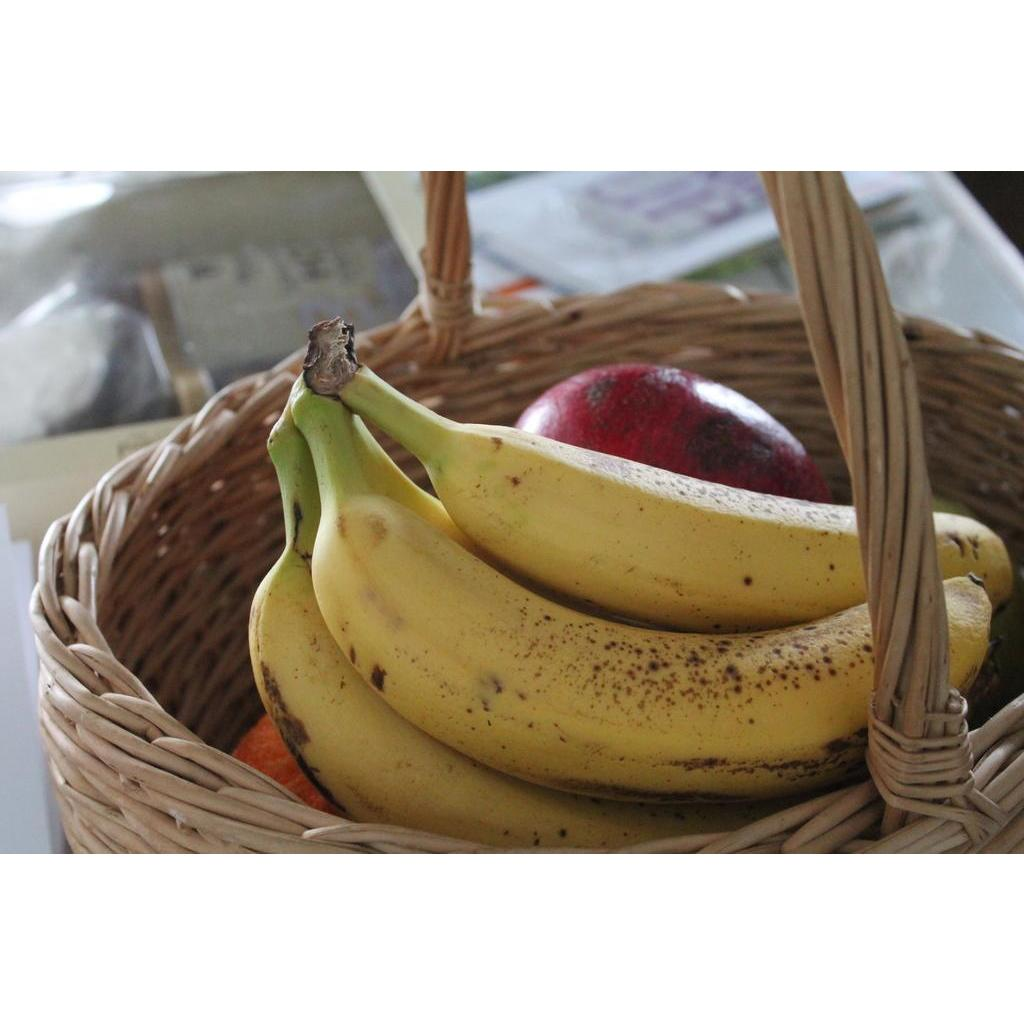banana: (291, 395, 876, 806), (339, 368, 867, 635)
